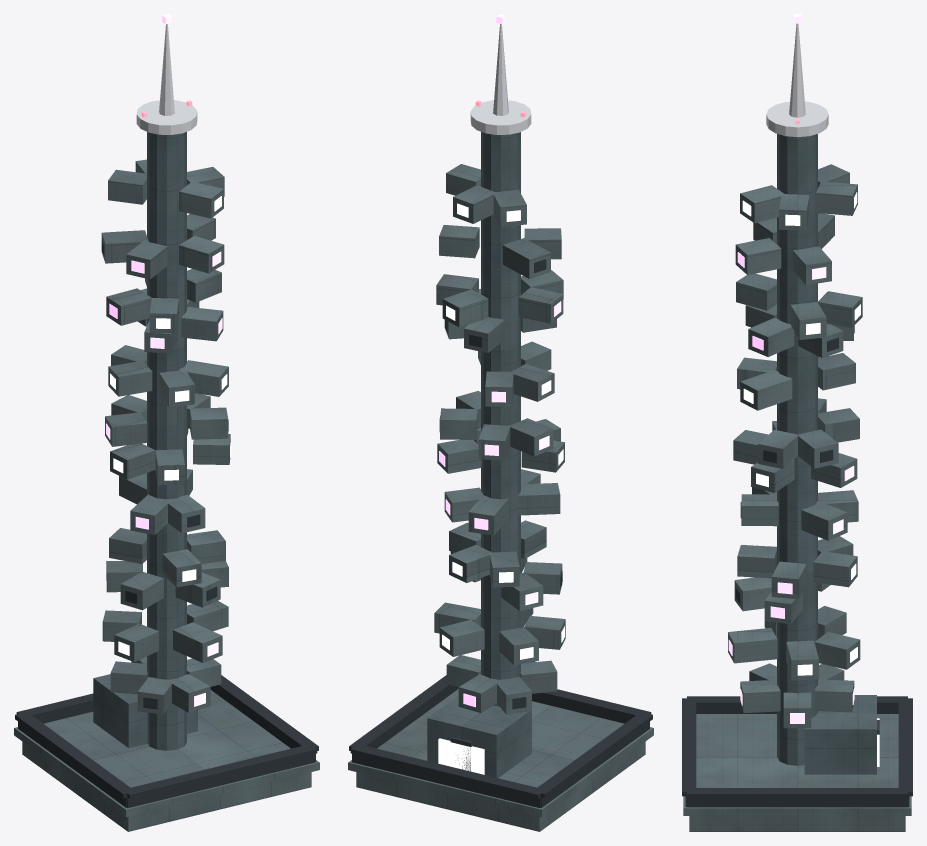
The model's file is synthwave-capsule.glb.
The picture shows the model from 3 angles, left to right: view 1: azimuth 30°, elevation 25°; view 2: azimuth 150°, elevation 25°; view 3: azimuth 270°, elevation 25°; orthographic projection. The views are drawn at different scales.
Parts seen in each view (by area): view 1: Capsule_Body2, Capsule_Body, Capsule_Frame, Capsule_ChromeCrown, Capsule_PaneOff, Capsule_PaneB; view 2: Capsule_Body2, Capsule_Body, Capsule_Frame, Capsule_ChromeCrown, LobbyPane, Capsule_PaneADim, Capsule_PaneB; view 3: Capsule_Body2, Capsule_Body, Capsule_Frame, Capsule_ChromeCrown, Capsule_PaneADim, Capsule_PaneB, Capsule_PaneOff.
Part boxes in pixels (box(x1,y1,x2,y2)): Capsule_Body2: box(14, 159, 319, 831); Capsule_Body: box(93, 132, 197, 750); Capsule_Frame: box(15, 675, 318, 807); Capsule_ChromeCrown: box(136, 24, 197, 134); Capsule_PaneOff: box(101, 240, 228, 709); Capsule_PaneB: box(110, 196, 221, 473); Capsule_Body2: box(348, 164, 653, 831); Capsule_Body: box(427, 132, 531, 777); Capsule_Frame: box(349, 675, 652, 807); Capsule_ChromeCrown: box(470, 24, 531, 134); LobbyPane: box(438, 738, 484, 774); Capsule_PaneADim: box(445, 236, 562, 707); Capsule_PaneB: box(442, 380, 563, 650); Capsule_Body2: box(683, 164, 911, 831); Capsule_Body: box(777, 134, 876, 774); Capsule_Frame: box(682, 696, 912, 807); Capsule_ChromeCrown: box(766, 23, 828, 137); Capsule_PaneADim: box(740, 267, 854, 705); Capsule_PaneB: box(742, 200, 857, 675); Capsule_PaneOff: box(735, 325, 854, 603).
Size of the model in its own units: 0.96 by 3.53 by 0.96.
Materials: 15 (2 with a texture image).
